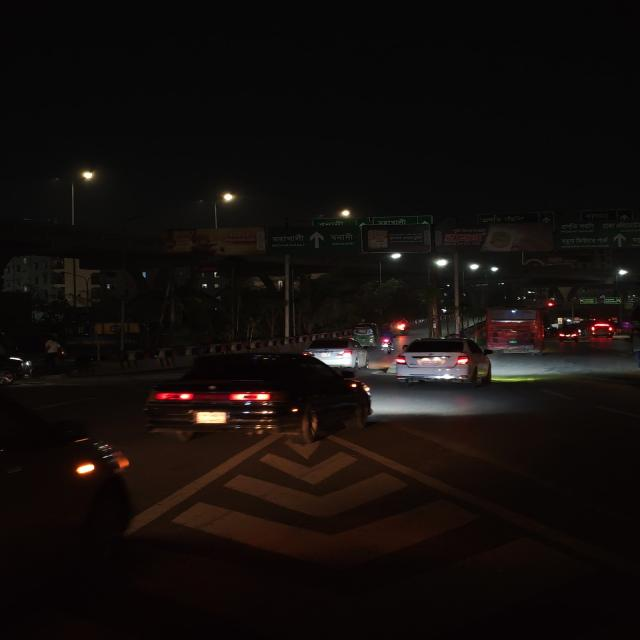bus: (482, 306, 548, 356), (589, 314, 615, 341)
car: (137, 350, 379, 442), (392, 337, 496, 389), (304, 337, 368, 367)
cng: (351, 322, 379, 348), (555, 322, 585, 343)
motorcycle: (378, 331, 395, 353), (394, 318, 411, 335)
